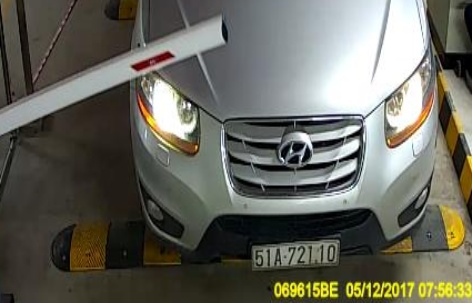plate: (243, 233, 346, 274)
